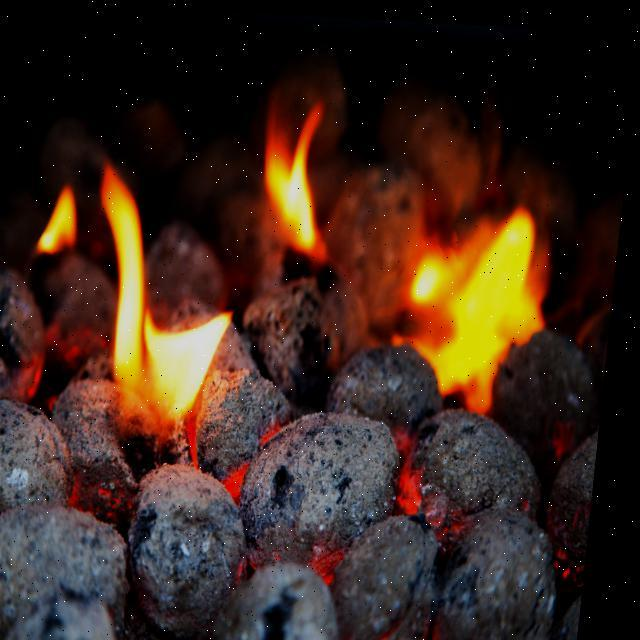Fire: (4, 68, 585, 510)
